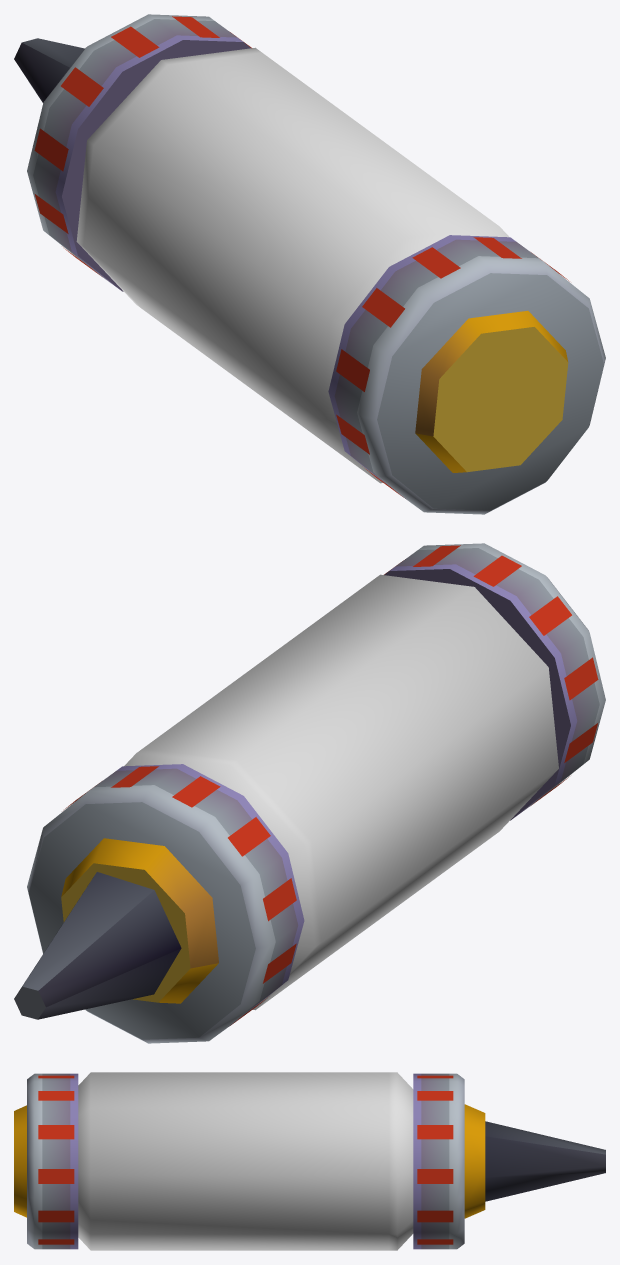
Rendered from HotSauceBattery.fbx.
3 views of the same model, one above another, from view 1: azimuth 30°, elevation 25°; view 2: azimuth 150°, elevation 25°; view 3: azimuth 270°, elevation 25° (orthographic). The views are drawn at different scales.
Parts seen in each view (by area): view 1: HotSauceBattery; view 2: HotSauceBattery; view 3: HotSauceBattery.
Part boxes in pixels (x1,y1,x2,y2): HotSauceBattery: [14, 14, 605, 514]; HotSauceBattery: [14, 543, 605, 1043]; HotSauceBattery: [14, 1072, 605, 1250].
Size of the model in its own units: 15.83 by 15.83 by 53.19.
